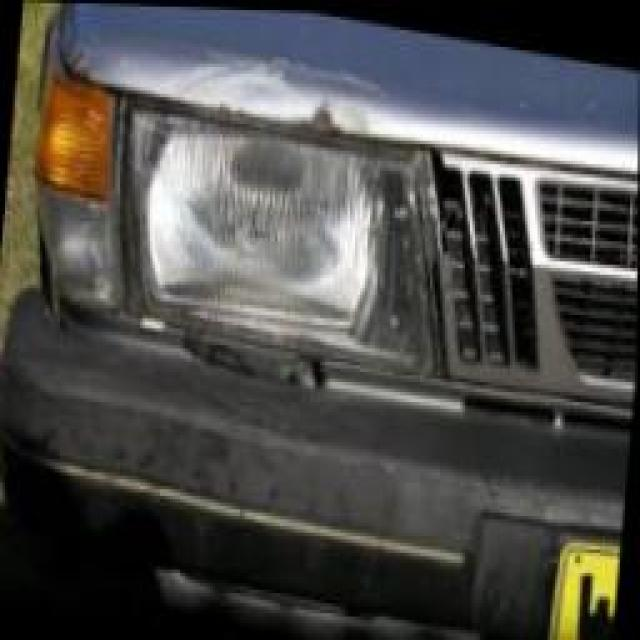Bonnet: (56, 2, 565, 161)
Bumper: (0, 301, 630, 640)
